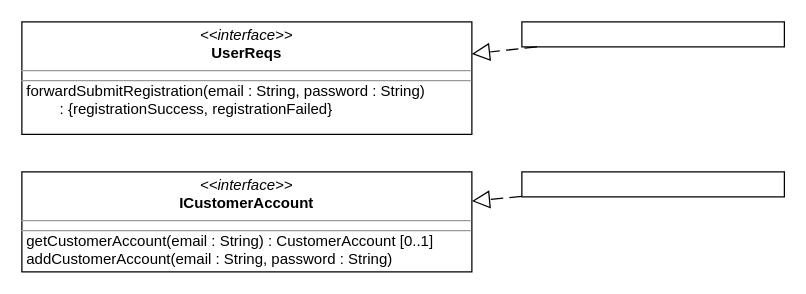
This 806x294 diagram has some shape labels left out. Here are the shapes that lost their labels. From the top down, the centre of each, then its label:
the point at 652,34: UserReqsPort of UDEK_Application
the point at 652,184: CAPort of CA_Adapter
